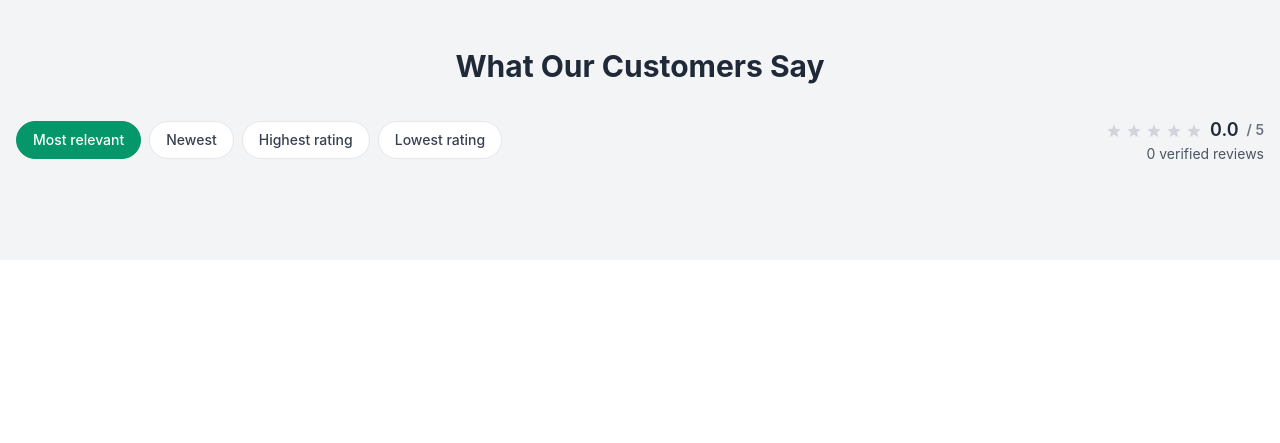
Test case: Testimonial › shows a 4-star review first when sorting by lowest rating
Click the button "Lowest rating". click: coordinates (440, 140)
box: [378,121,502,159]
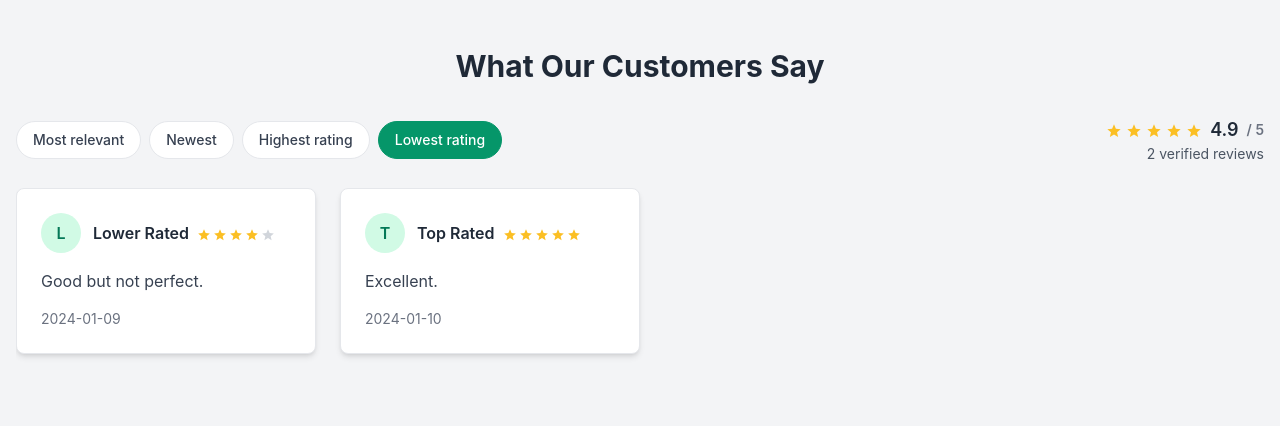
Now the text "Lower Rated" is shown, box [93,221,189,245]
